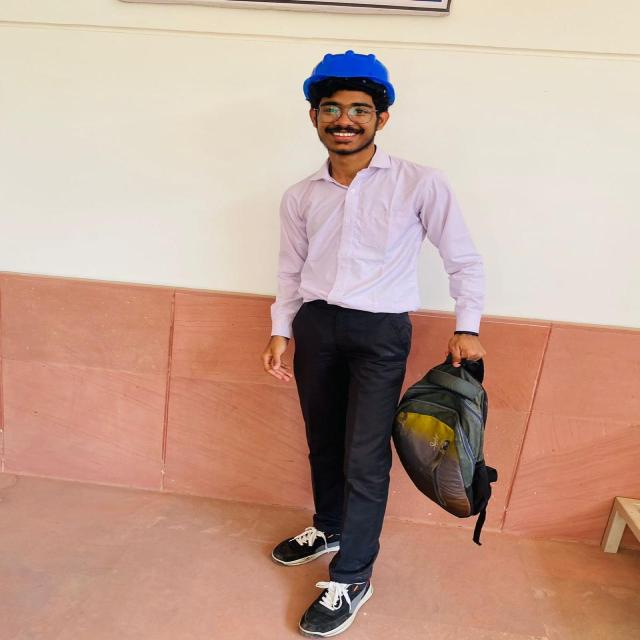no jacket: (262, 51, 480, 635)
